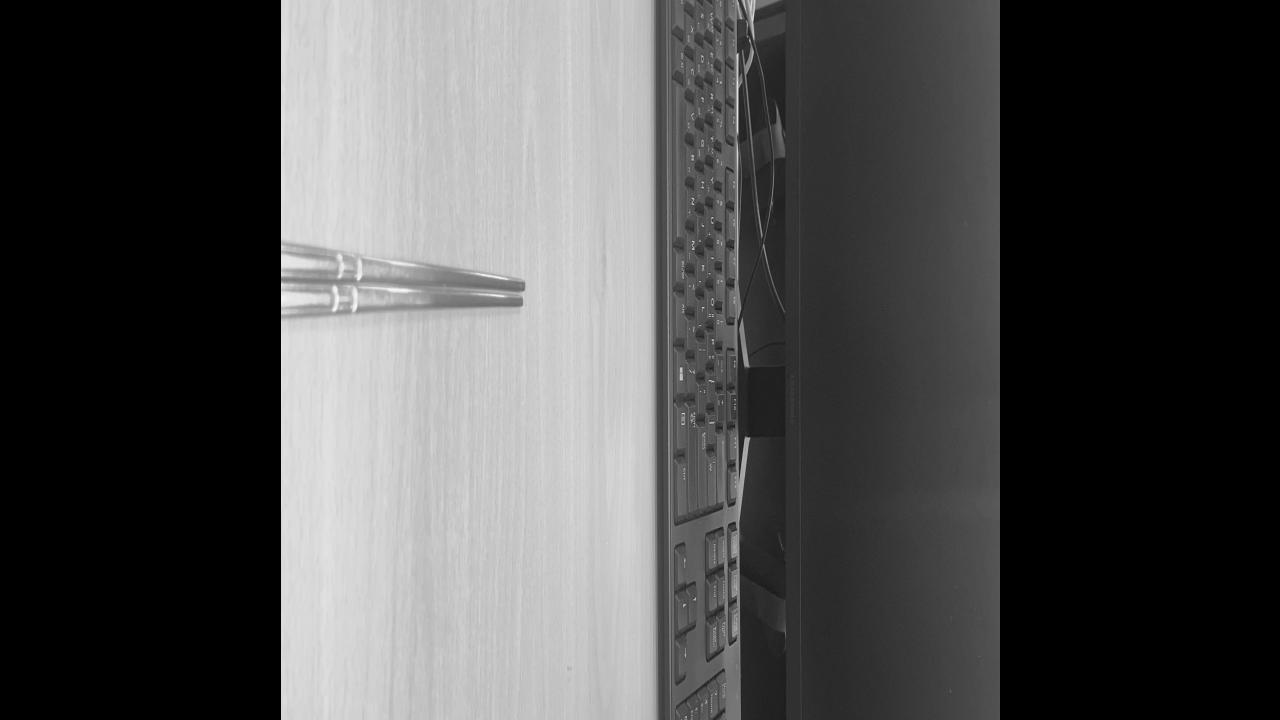chopstick: (280, 241, 525, 323)
